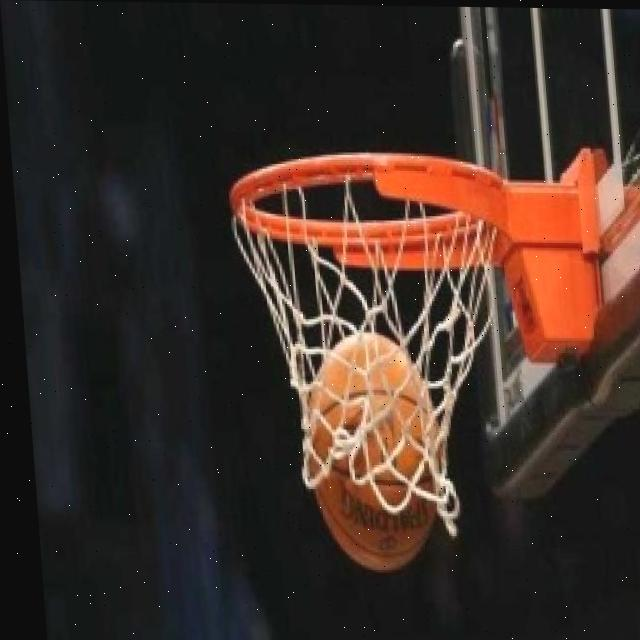Goal: (298, 331, 449, 571)
